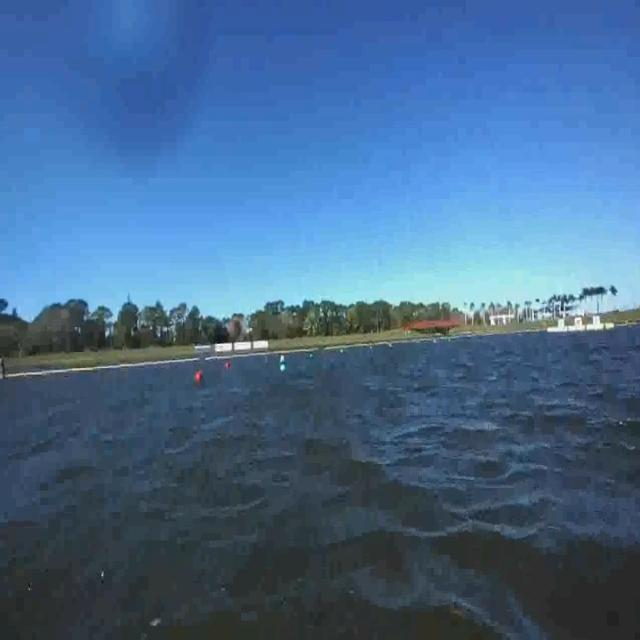green-buoy: (280, 362, 287, 379)
red-buoy: (197, 369, 203, 381)
